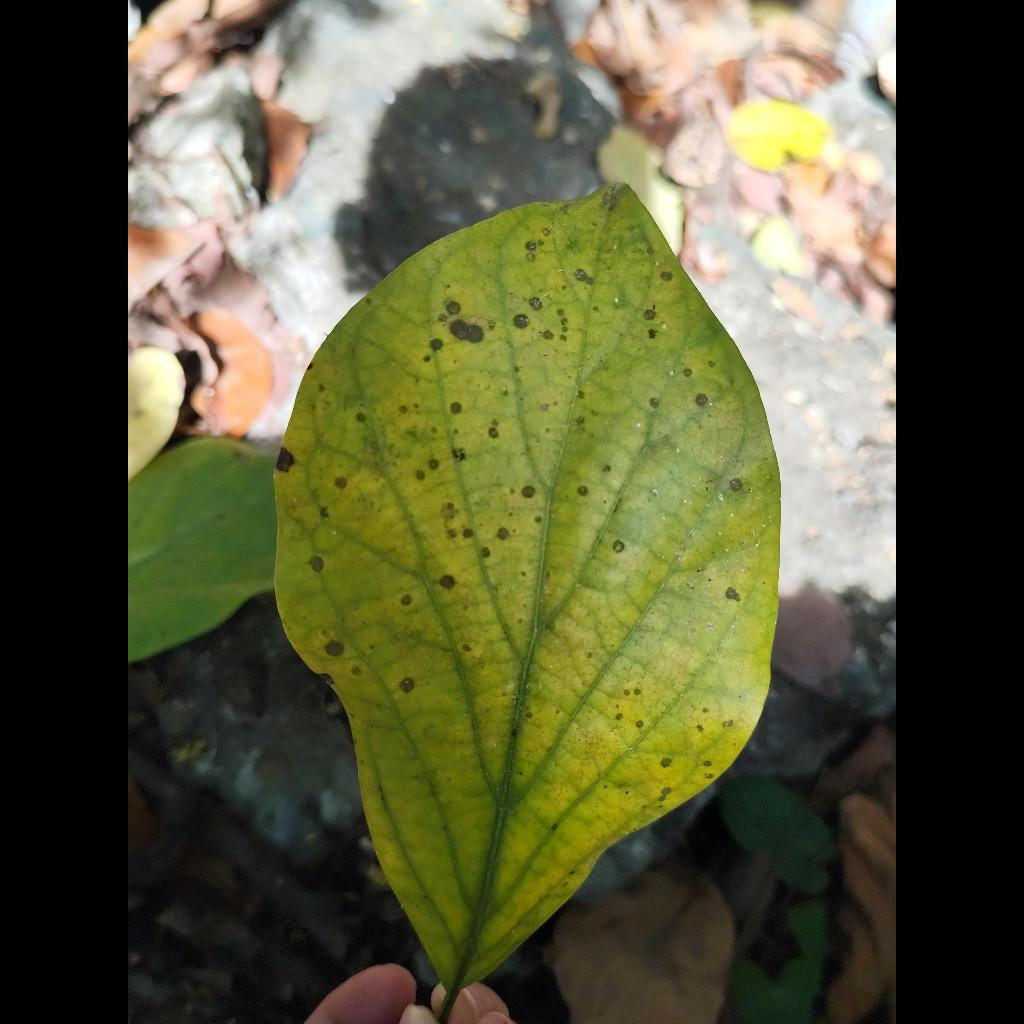nutrient_deficiency: (275, 185, 780, 999)
